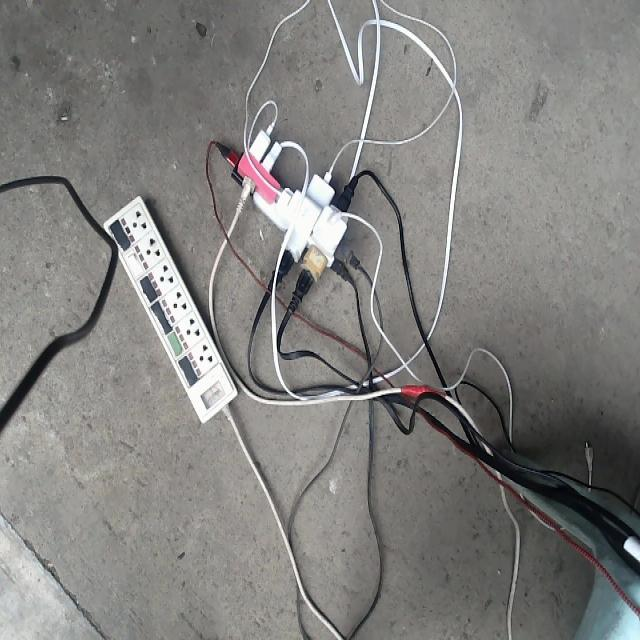-: (227, 128, 359, 287)
